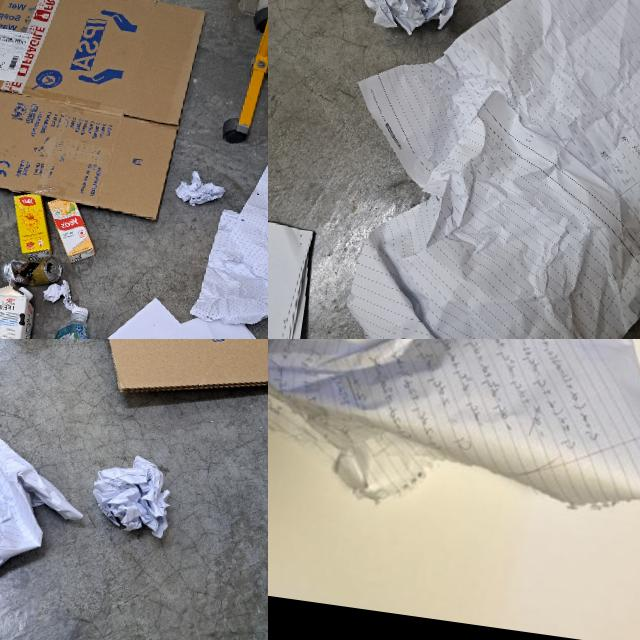aba de lata: (50, 265, 61, 276)
caixinha: (40, 197, 101, 266), (6, 192, 56, 258), (0, 279, 38, 339)
garrafa plástica: (50, 303, 120, 339)
lata: (0, 250, 62, 292)
papel: (326, 76, 640, 339), (268, 339, 640, 549), (343, 0, 640, 238), (0, 423, 95, 603), (187, 153, 268, 339), (87, 446, 177, 542), (268, 216, 322, 339), (354, 0, 463, 41), (173, 168, 228, 210), (40, 278, 80, 311)
papelão: (0, 0, 207, 222), (24, 339, 268, 419)
tampa plástica: (70, 304, 90, 318), (18, 287, 34, 300)
